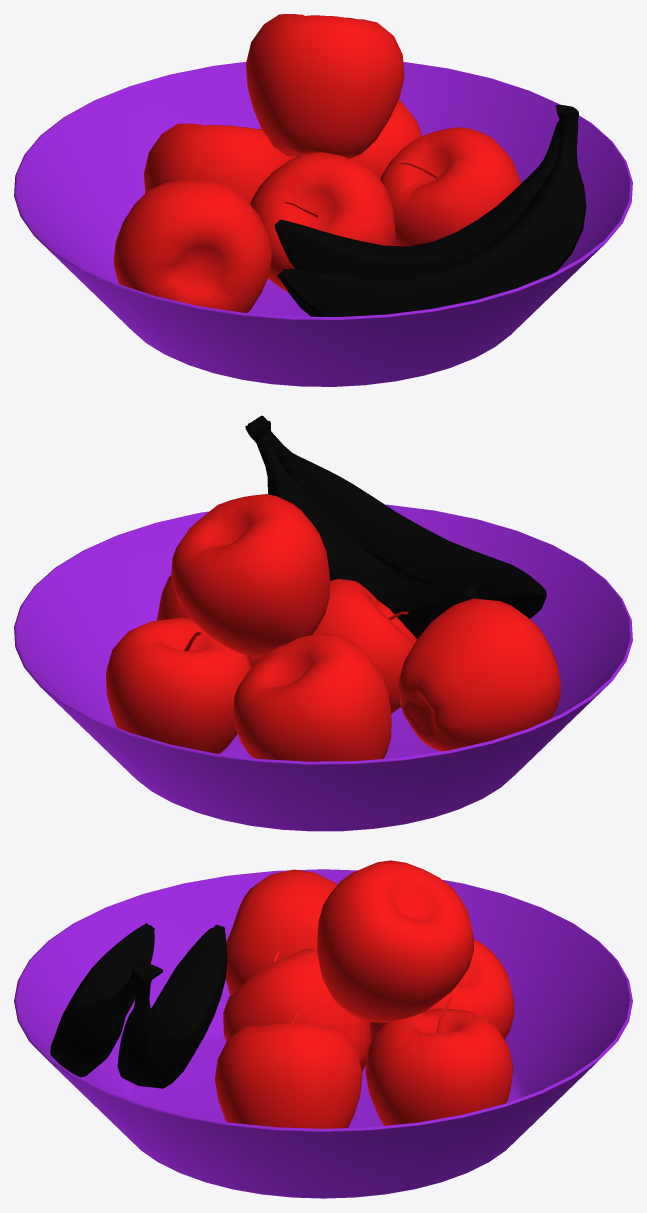
Rendered from QD_3BR_KT_Fruit_Basket_UN.FBX.
3 views of the same model, one above another, from view 1: azimuth 30°, elevation 25°; view 2: azimuth 150°, elevation 25°; view 3: azimuth 270°, elevation 25° (orthographic).
Visible parts, largest first — view 1: Fruits; view 2: Fruits; view 3: Fruits.
Part boxes in pixels (<box>): Fruits: <box>14,14,632,386</box>; Fruits: <box>14,415,632,831</box>; Fruits: <box>14,860,632,1198</box>.
Size of the model in its own units: 0.2363 by 0.1096 by 0.2363.
